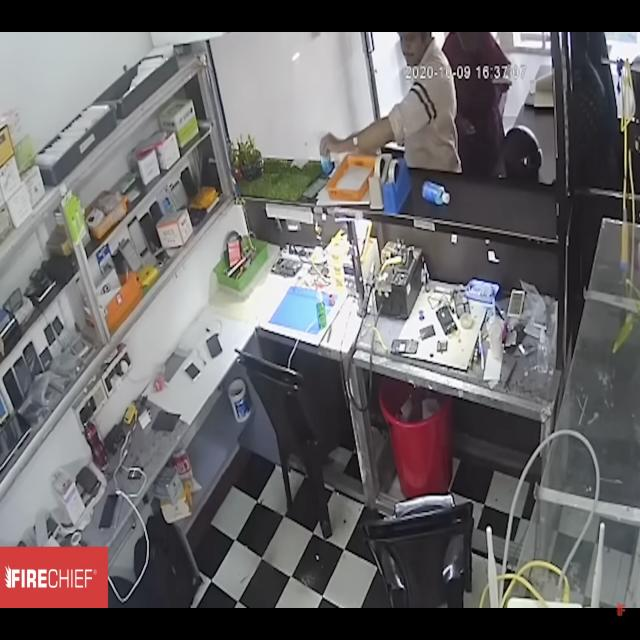Monitorando: (8, 43, 634, 601)
